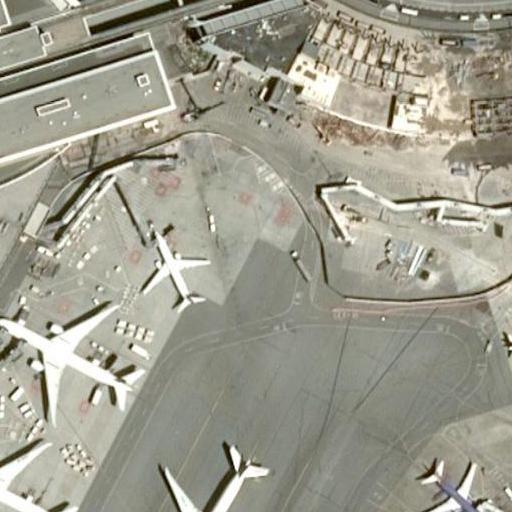Aircraft: (0, 301, 140, 424), (151, 430, 278, 512), (132, 224, 207, 320), (0, 436, 74, 512), (410, 449, 485, 512), (497, 302, 512, 373)
